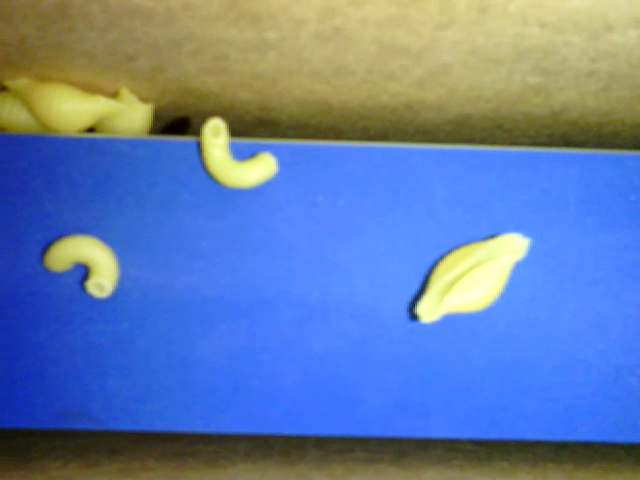elbow: (196, 113, 278, 190), (42, 229, 121, 297)
shell: (406, 234, 530, 322), (3, 74, 126, 136), (94, 88, 159, 139), (1, 86, 56, 130)
